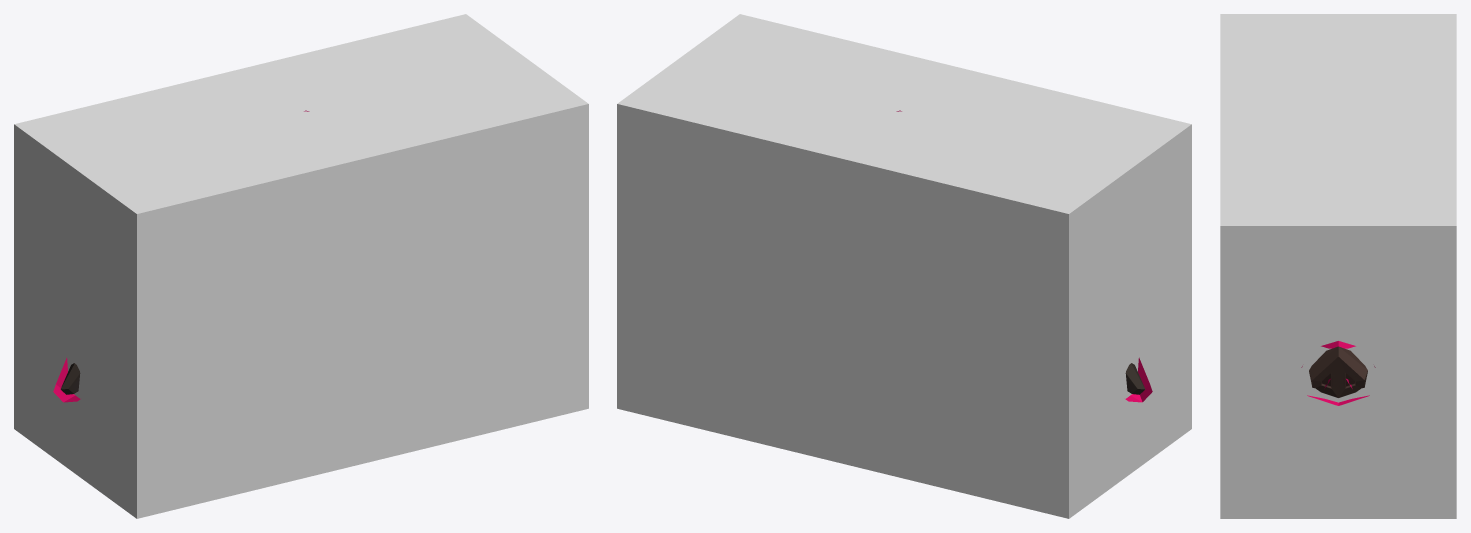
File: boar.gltf
3 renders of one model, left to right at view 1: azimuth 30°, elevation 25°; view 2: azimuth 150°, elevation 25°; view 3: azimuth 270°, elevation 25°, orthographic. The views are drawn at different scales.
Parts seen in each view (by area): view 1: Box; view 2: Box; view 3: Box, Boar, Outline.
Boxes of the visible parts, x1=… form: Box: x1=14, y1=14, x2=588, y2=518; Box: x1=617, y1=14, x2=1191, y2=518; Box: x1=1220, y1=14, x2=1456, y2=518; Boar: x1=1309, y1=346, x2=1367, y2=397; Outline: x1=1301, y1=341, x2=1375, y2=405.
Size of the model in its own units: 3.41 by 2.02 by 1.46.
Materials: 2 (1 with a texture image).
